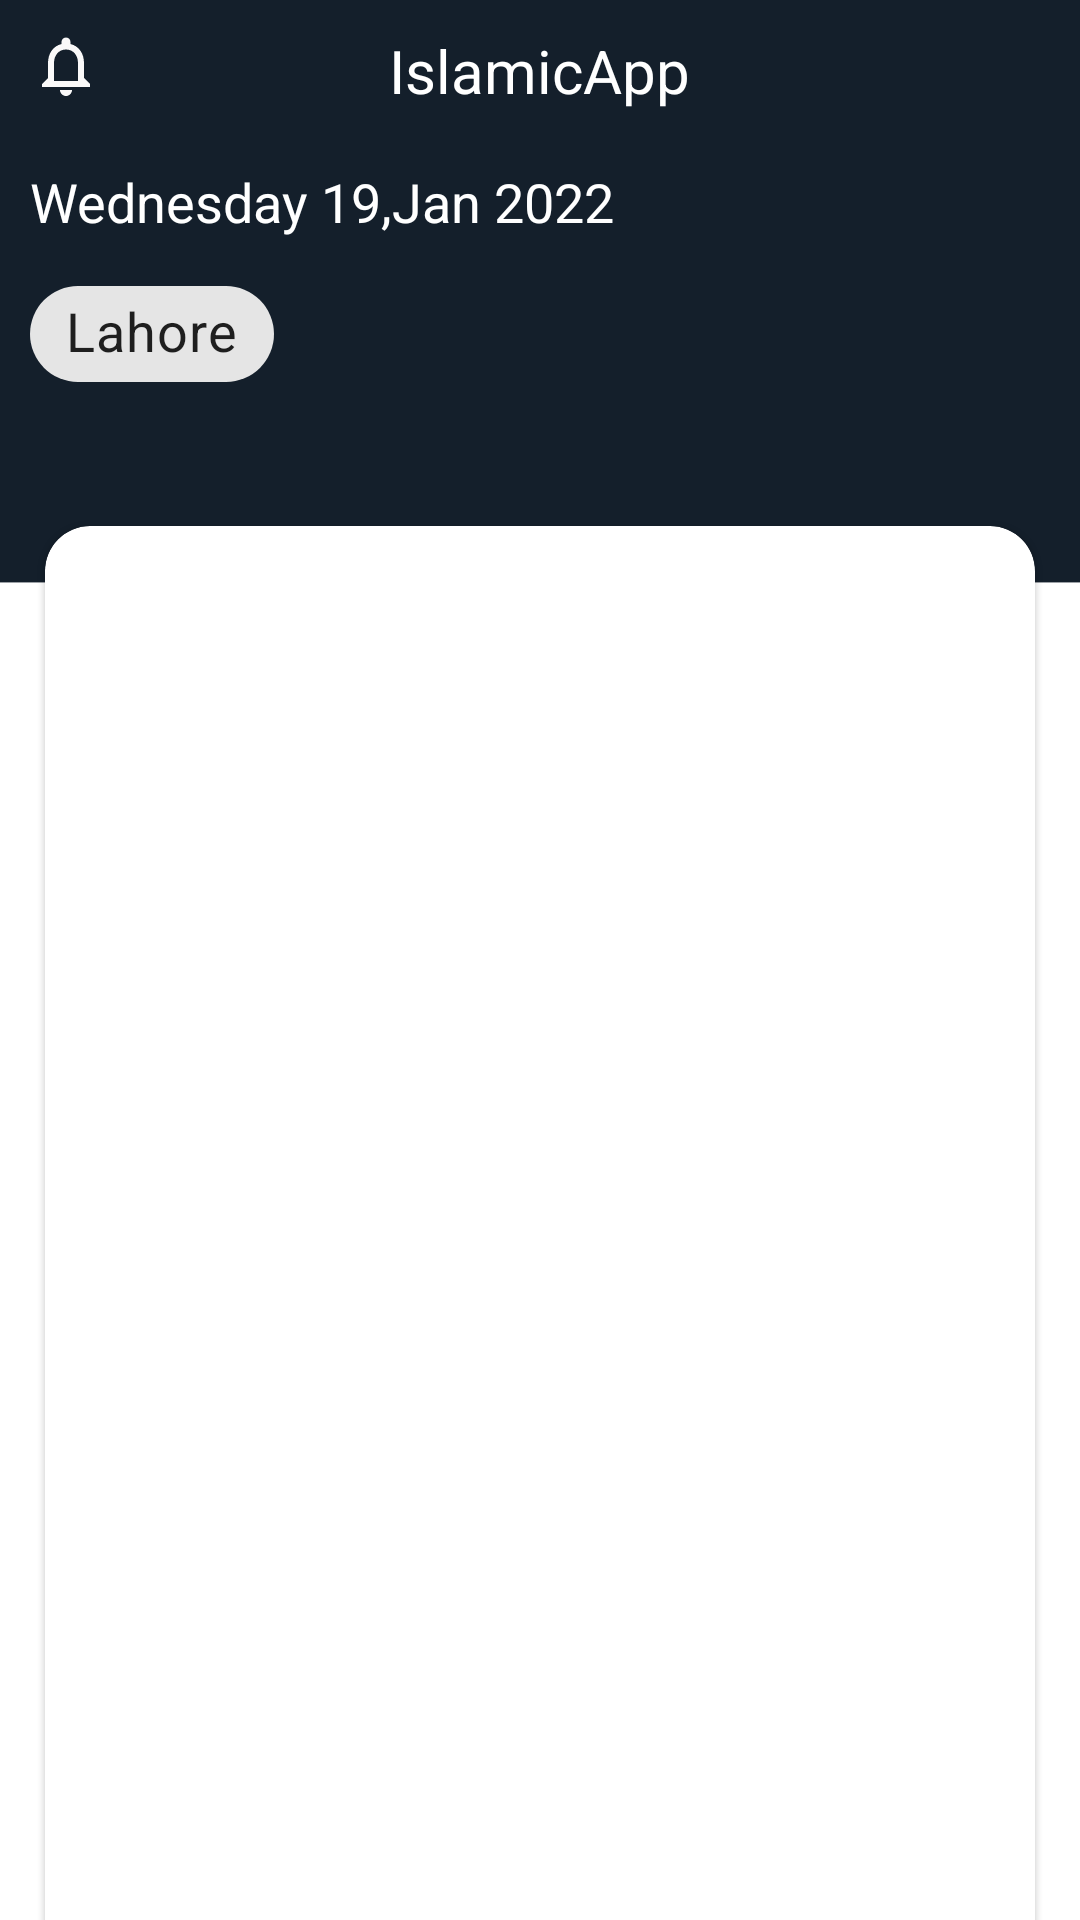

Screen size 1080×1920. Icon name, then its box in pixels as (x1, y1, x2, y2):
notify: (42, 37, 90, 96)
